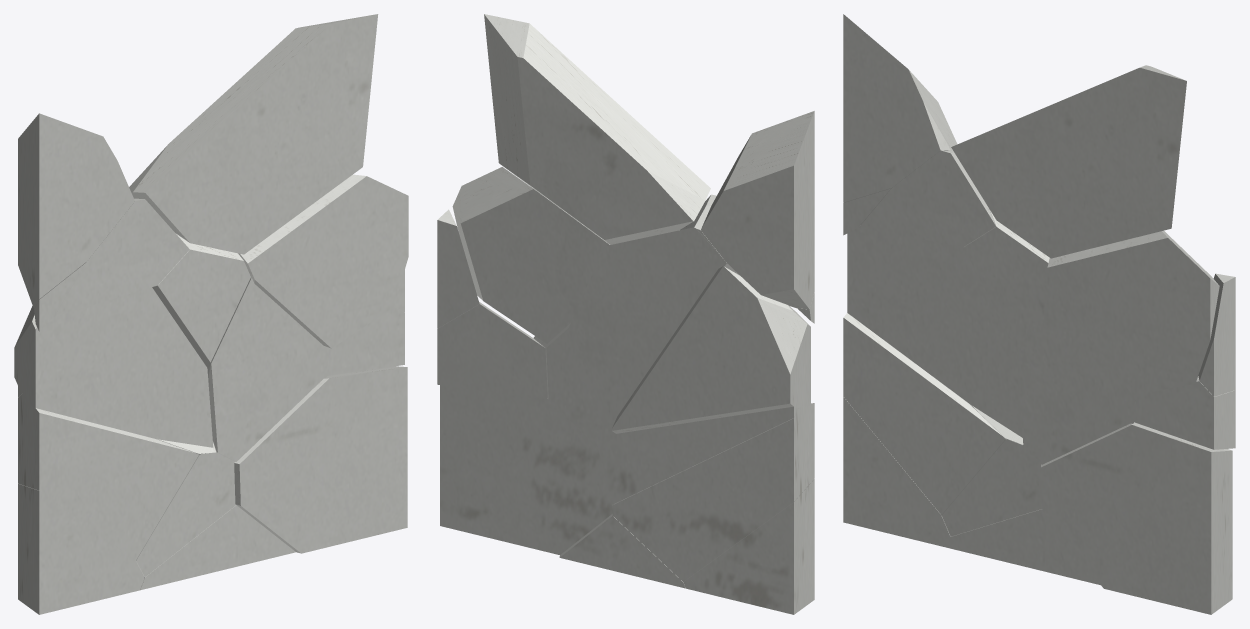
File: WallDestroyed4.fbx
3 renders of one model, left to right at view 1: azimuth 30°, elevation 25°; view 2: azimuth 150°, elevation 25°; view 3: azimuth 330°, elevation 25°, orthographic. The views are drawn at different scales.
Visible parts, largest first — view 1: Wall_cell.004, Wall_cell.020, Wall_cell.009, Wall_cell.007, Wall_cell.010, Wall_cell.012, Wall_cell.002, Wall_cell.019, Wall_cell.008, Wall_cell.022, Wall_cell.006, Wall_cell.015 (+2 smaller); view 2: Wall_cell.004, Wall_cell.020, Wall_cell.009, Wall_cell.010, Wall_cell.007, Wall_cell.022, Wall_cell.012, Wall_cell.019, Wall_cell.023, Wall_cell.016, Wall_cell.002, Wall_cell.015 (+2 smaller); view 3: Wall_cell.004, Wall_cell.020, Wall_cell.009, Wall_cell.007, Wall_cell.010, Wall_cell.012, Wall_cell.002, Wall_cell.019, Wall_cell.008, Wall_cell.022, Wall_cell.006, Wall_cell.015 (+3 smaller).
Part boxes in pixels (<box>): Wall_cell.004: <box>129,14,378,254</box>; Wall_cell.020: <box>234,366,407,553</box>; Wall_cell.009: <box>14,287,213,447</box>; Wall_cell.007: <box>238,174,408,348</box>; Wall_cell.010: <box>18,393,199,560</box>; Wall_cell.012: <box>18,113,134,308</box>; Wall_cell.002: <box>208,278,328,461</box>; Wall_cell.019: <box>18,484,144,614</box>; Wall_cell.008: <box>54,198,189,316</box>; Wall_cell.022: <box>152,234,250,377</box>; Wall_cell.006: <box>136,452,235,576</box>; Wall_cell.015: <box>140,505,295,590</box>; Wall_cell.004: <box>484,14,710,244</box>; Wall_cell.020: <box>440,385,612,554</box>; Wall_cell.009: <box>611,266,810,433</box>; Wall_cell.010: <box>612,403,814,581</box>; Wall_cell.007: <box>452,167,609,343</box>; Wall_cell.022: <box>569,227,726,422</box>; Wall_cell.012: <box>701,111,814,309</box>; Wall_cell.019: <box>683,479,814,614</box>; Wall_cell.023: <box>598,406,797,504</box>; Wall_cell.016: <box>437,302,547,400</box>; Wall_cell.002: <box>533,323,613,447</box>; Wall_cell.015: <box>559,514,685,588</box>; Wall_cell.004: <box>951,65,1186,258</box>; Wall_cell.020: <box>1041,422,1232,614</box>; Wall_cell.009: <box>847,225,1022,437</box>; Wall_cell.007: <box>1047,230,1219,395</box>; Wall_cell.010: <box>843,313,1006,515</box>; Wall_cell.012: <box>843,14,957,202</box>; Wall_cell.002: <box>1016,289,1135,464</box>; Wall_cell.019: <box>843,397,950,547</box>; Wall_cell.008: <box>859,150,995,246</box>; Wall_cell.022: <box>963,209,1055,351</box>; Wall_cell.006: <box>941,439,1042,536</box>; Wall_cell.015: <box>946,509,1100,585</box>.
Bounding box in the file's own units: 400 × 544 × 54.03.
Materials: 1 (1 with a texture image).
